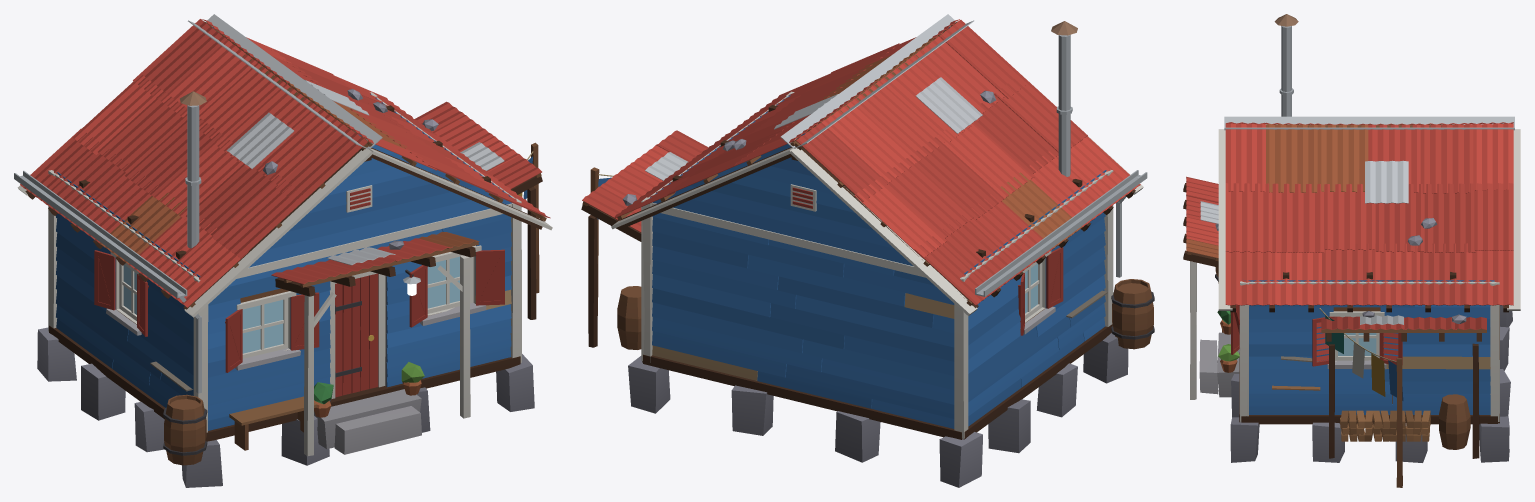
3 views of the same model, side by side, from view 1: azimuth 30°, elevation 25°; view 2: azimuth 150°, elevation 25°; view 3: azimuth 270°, elevation 25° (orthographic). The views are drawn at different scales.
Visible parts, largest first — view 1: H15_ROOF, H15_WALL_S, H15_WALL_W, H15_BASE, H15_WALL_E, H15_DOOR_main; view 2: H15_ROOF, H15_WALL_N, H15_WALL_W, H15_BASE, H15_WALL_E; view 3: H15_ROOF, H15_WALL_E, H15_BASE, H15_WALL_S.
Part boxes in pixels (left/top/right/bottom): H15_ROOF: left=17, top=14, right=552, bottom=317; H15_WALL_S: left=198, top=131, right=521, bottom=456; H15_WALL_W: left=14, top=170, right=207, bottom=465; H15_BASE: left=37, top=325, right=534, bottom=487; H15_WALL_E: left=370, top=92, right=542, bottom=362; H15_DOOR_main: left=335, top=273, right=378, bottom=397; H15_ROOF: left=611, top=14, right=1143, bottom=315; H15_WALL_N: left=642, top=130, right=968, bottom=438; H15_WALL_W: left=960, top=170, right=1154, bottom=438; H15_BASE: left=628, top=324, right=1128, bottom=487; H15_WALL_E: left=581, top=94, right=790, bottom=360; H15_ROOF: left=1218, top=14, right=1520, bottom=312; H15_WALL_E: left=1239, top=280, right=1499, bottom=487; H15_BASE: left=1199, top=305, right=1512, bottom=462; H15_WALL_S: left=1183, top=176, right=1249, bottom=421.
Bounding box in the file's own units: 7.43 × 5.63 × 5.39.
